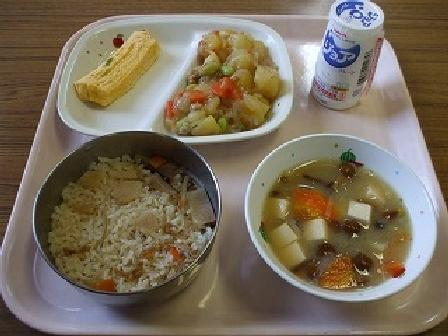Drinkable yogurt: (309, 3, 401, 111)
Mixed rice: (33, 131, 215, 295)
Soups: (249, 140, 437, 291)
egg product: (66, 31, 170, 113)
vegetable based cooked food: (180, 22, 281, 133)
